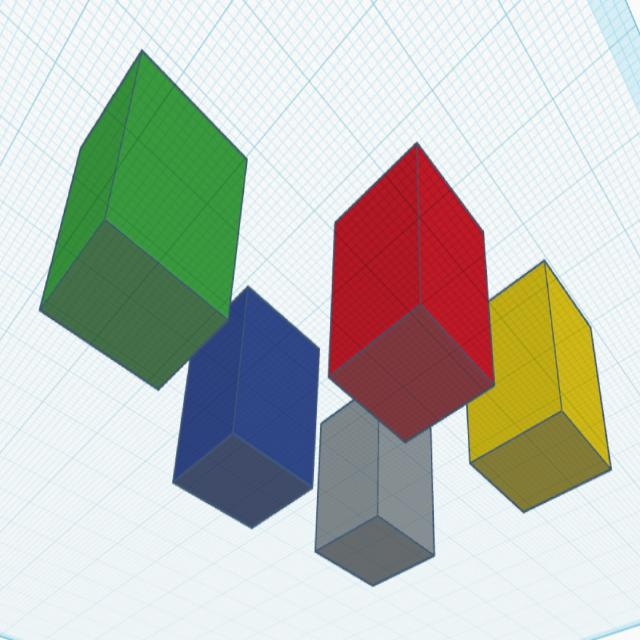cube: (36, 46, 250, 395), (326, 138, 497, 448)
